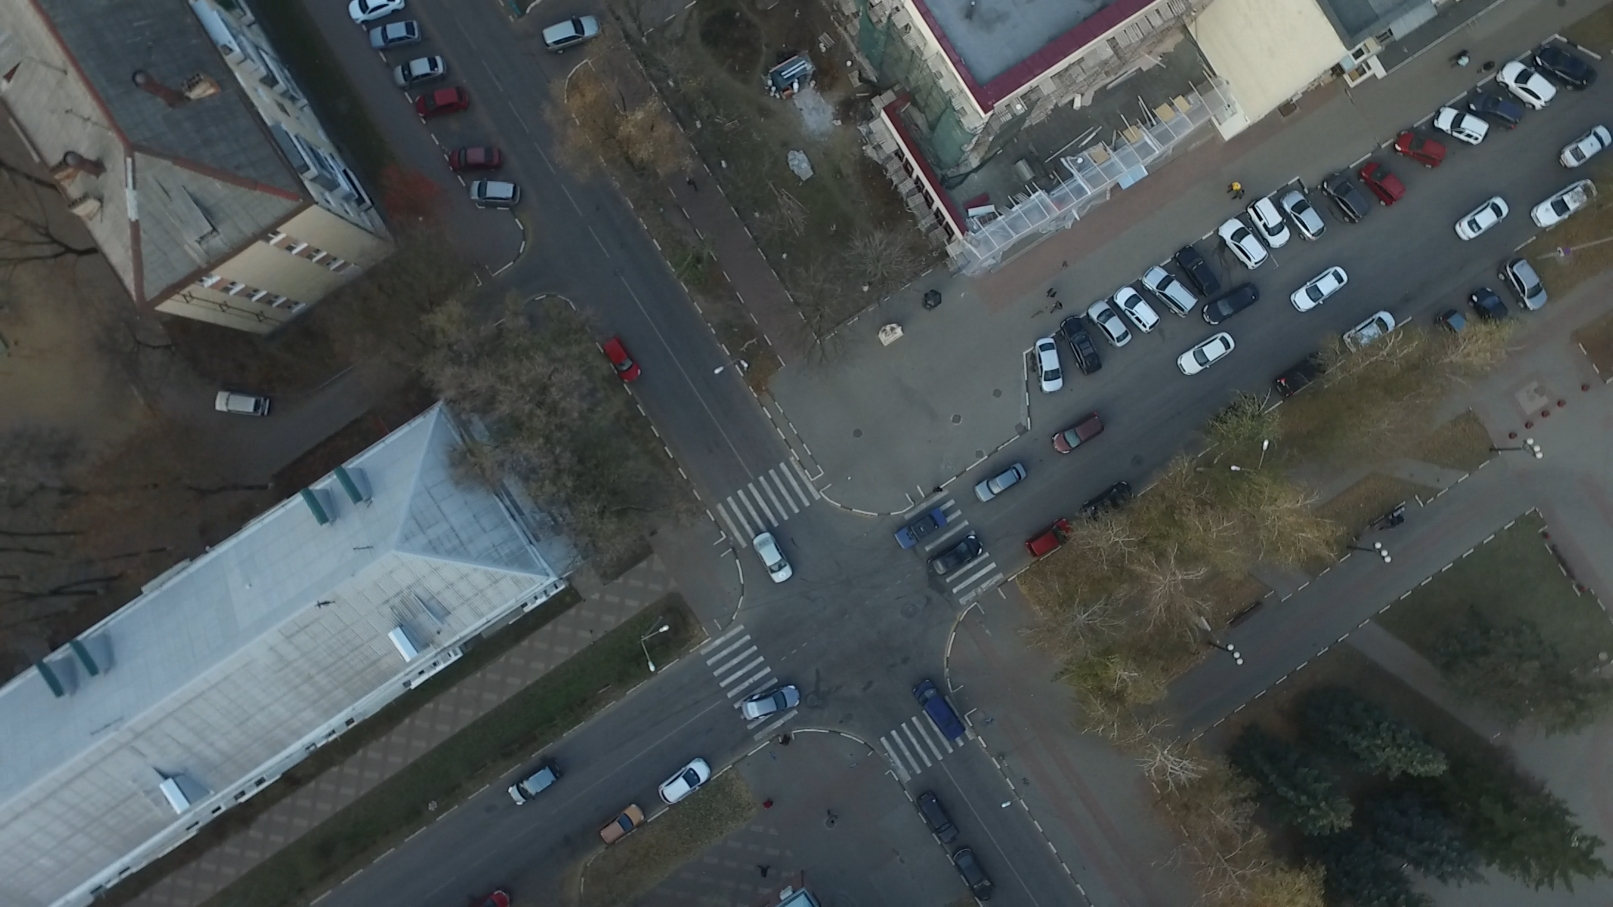car: (1494, 60, 1558, 117), (1534, 174, 1599, 230), (1532, 42, 1593, 100), (911, 679, 966, 741), (1272, 346, 1337, 395), (1144, 264, 1196, 321), (1497, 259, 1550, 315), (1453, 195, 1516, 241), (913, 790, 963, 845), (1290, 268, 1352, 312), (510, 759, 564, 808), (1177, 333, 1239, 377), (1218, 219, 1268, 271), (1277, 190, 1326, 245), (1323, 174, 1368, 231), (1203, 284, 1266, 324), (1432, 103, 1487, 151), (1343, 309, 1397, 355), (657, 757, 712, 803), (1079, 480, 1134, 524), (538, 17, 602, 55), (927, 532, 985, 574), (1062, 312, 1100, 377), (1559, 126, 1613, 171), (1116, 285, 1163, 334), (1471, 86, 1523, 131), (1249, 196, 1292, 249), (893, 508, 947, 550), (974, 461, 1032, 499), (1177, 245, 1218, 300), (951, 846, 993, 899), (753, 529, 792, 587), (1023, 516, 1071, 561), (740, 686, 804, 720), (596, 801, 646, 844), (1054, 410, 1109, 449), (1393, 128, 1444, 171), (1359, 157, 1404, 205), (468, 174, 523, 210), (1470, 284, 1509, 336), (1088, 300, 1130, 348), (214, 386, 270, 422), (1034, 336, 1069, 391), (415, 83, 468, 118), (602, 334, 639, 383), (445, 146, 504, 177), (1436, 307, 1472, 354), (395, 56, 446, 87), (367, 19, 418, 48), (345, 1, 409, 21), (461, 887, 516, 907)
